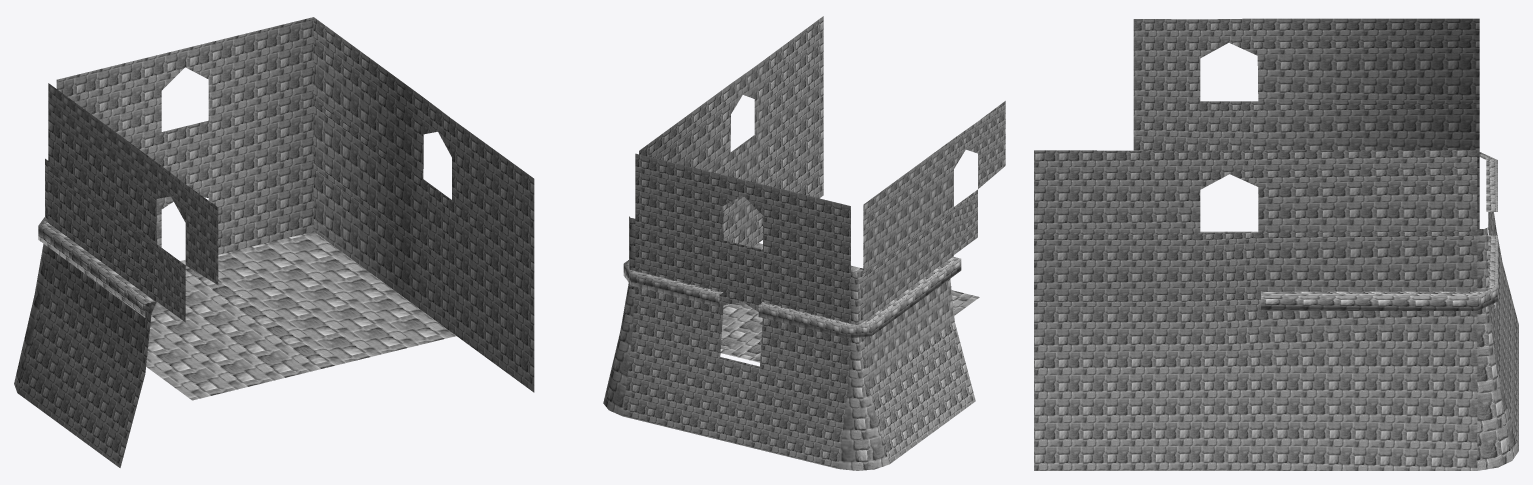
Rendered from castel.glb.
3 renders of one model, left to right at view 1: azimuth 30°, elevation 25°; view 2: azimuth 150°, elevation 25°; view 3: azimuth 270°, elevation 25°, orthographic. The views are drawn at different scales.
Parts seen in each view (by area): view 1: castelwall.png__; view 2: castelwall.png__; view 3: castelwall.png__.
Part boxes in pixels (x1,y1,x2,y2): castelwall.png__: (14,17,534,467); castelwall.png__: (603,16,1005,470); castelwall.png__: (1034,18,1518,470).
Size of the model in its own units: 108 by 92.66 by 133.
1 material, 1 textured.
